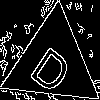D: (28, 37, 79, 97)
